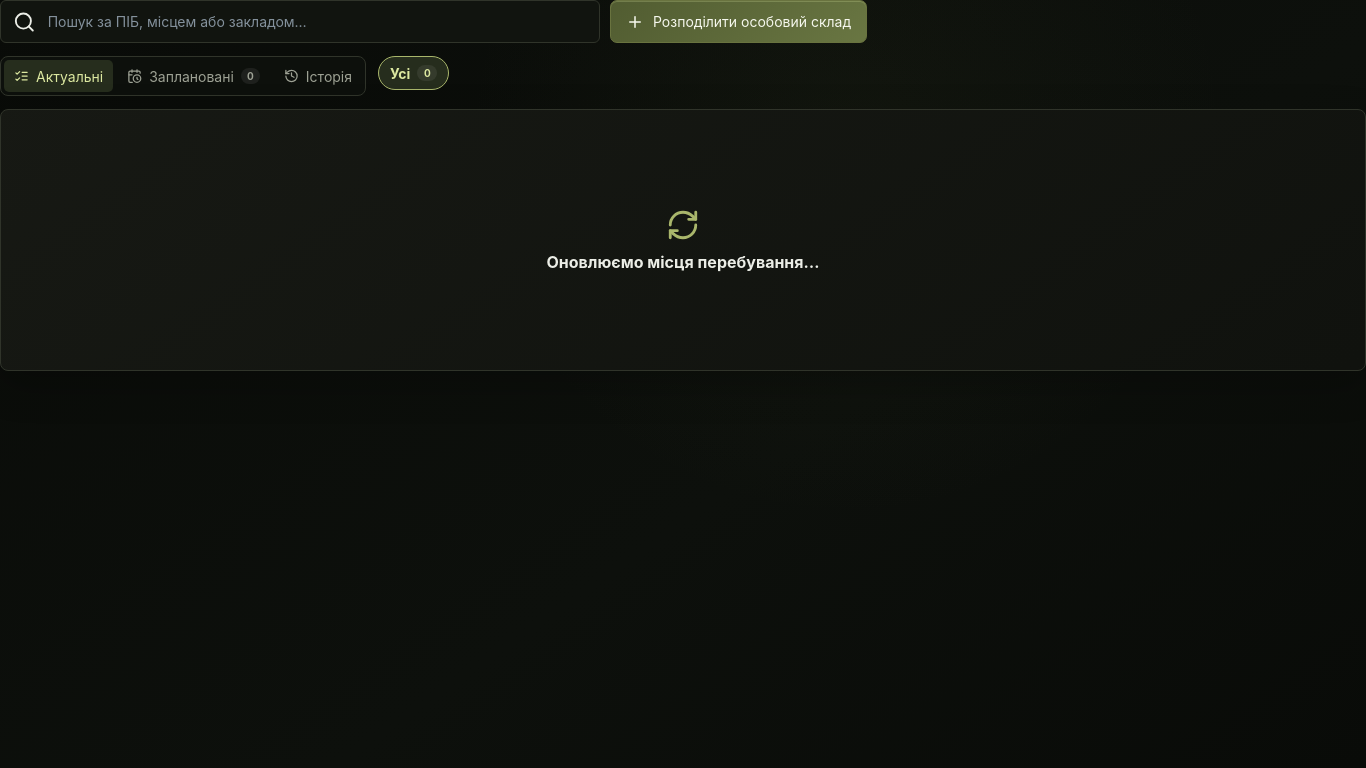
PersonnelControl › does not offer deferred automatic states in the manual location list
Click the button "Розподілити особовий склад". click: [739, 22]
box: [610,0,867,43]
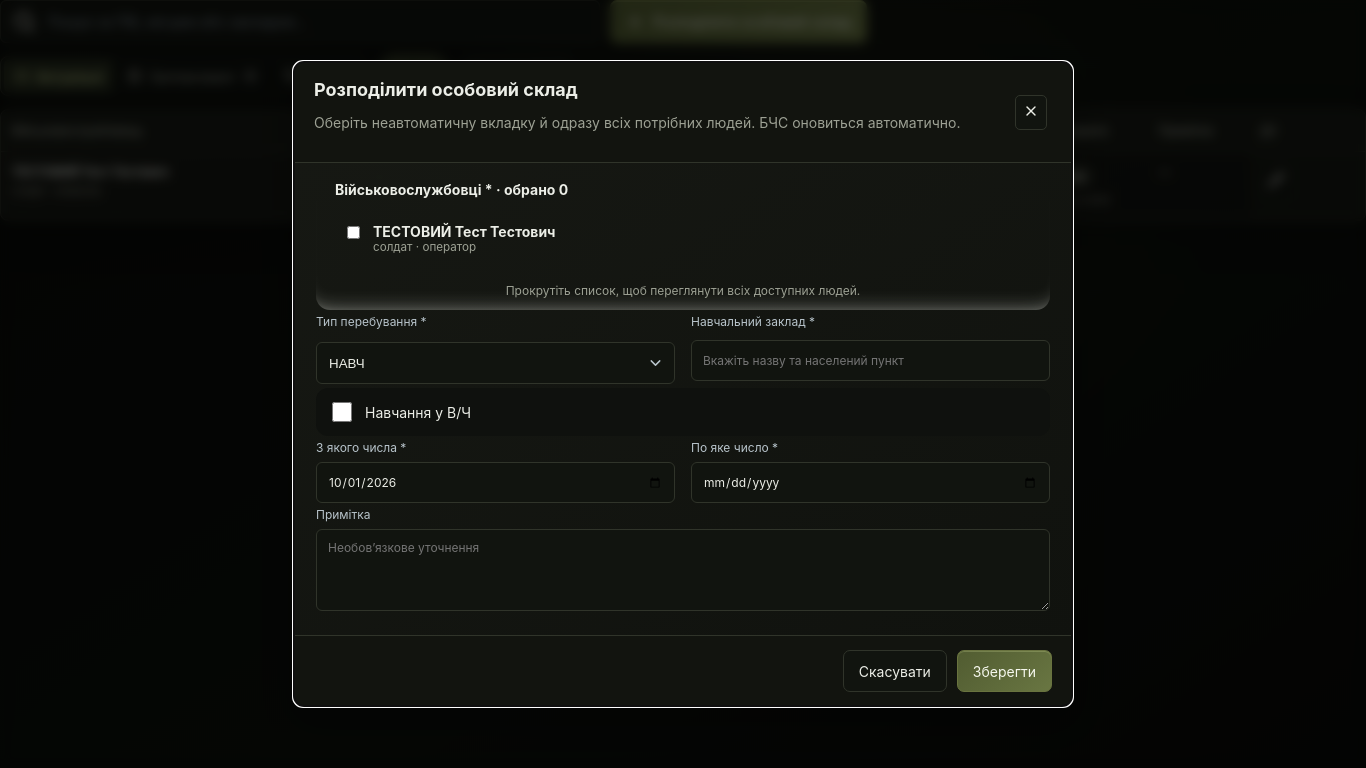
Expected: the checkbox labelled "ТЕСТОВИЙ Тест Тестович солдат · оператор" is enabled, [347,226,360,239]
